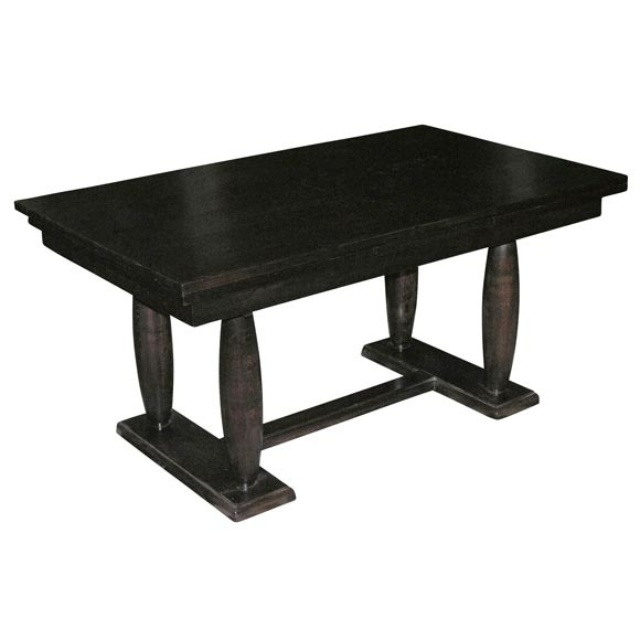obstacle: (15, 126, 626, 520)
